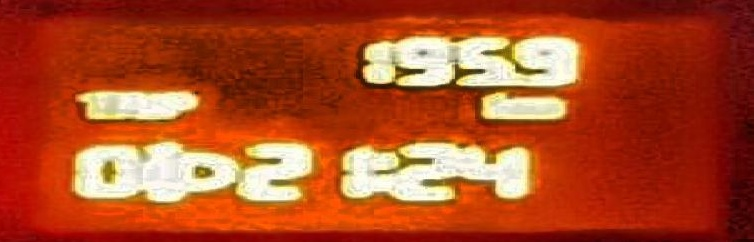-: (513, 71, 527, 88)
0: (71, 141, 140, 200)
1: (336, 138, 371, 204), (358, 32, 391, 87)
2: (236, 140, 309, 202), (398, 140, 458, 202)
4: (460, 142, 534, 200)
5: (454, 34, 514, 88)
9: (516, 33, 582, 89), (391, 34, 449, 89)
X: (158, 87, 198, 122), (476, 89, 516, 123), (516, 95, 565, 122), (373, 146, 398, 195), (76, 87, 107, 122), (109, 89, 136, 123), (136, 89, 156, 125)
